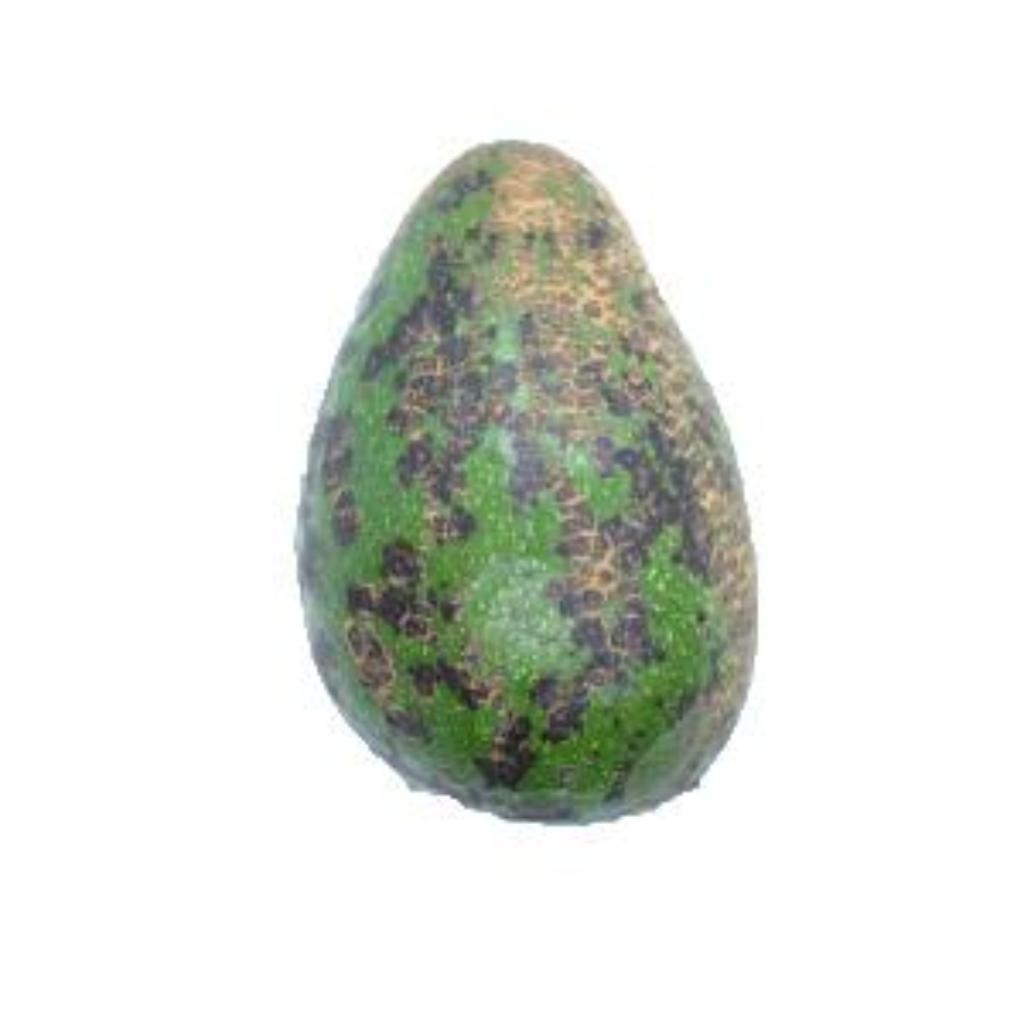cercospora: (268, 128, 780, 835)
